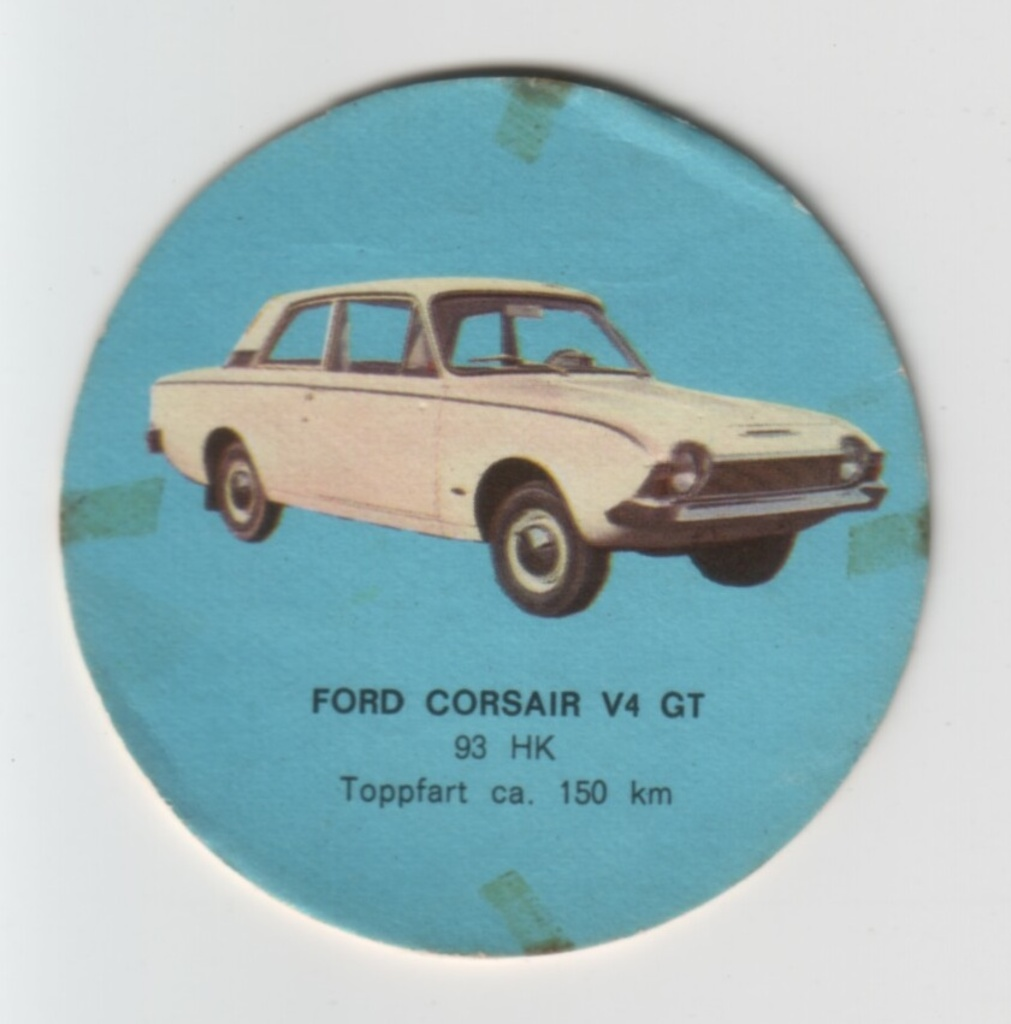Car: (146, 273, 888, 620)
